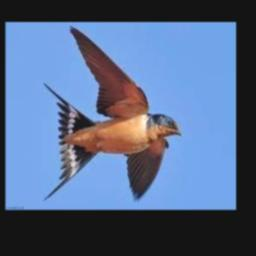Swallow: (43, 26, 186, 201)
